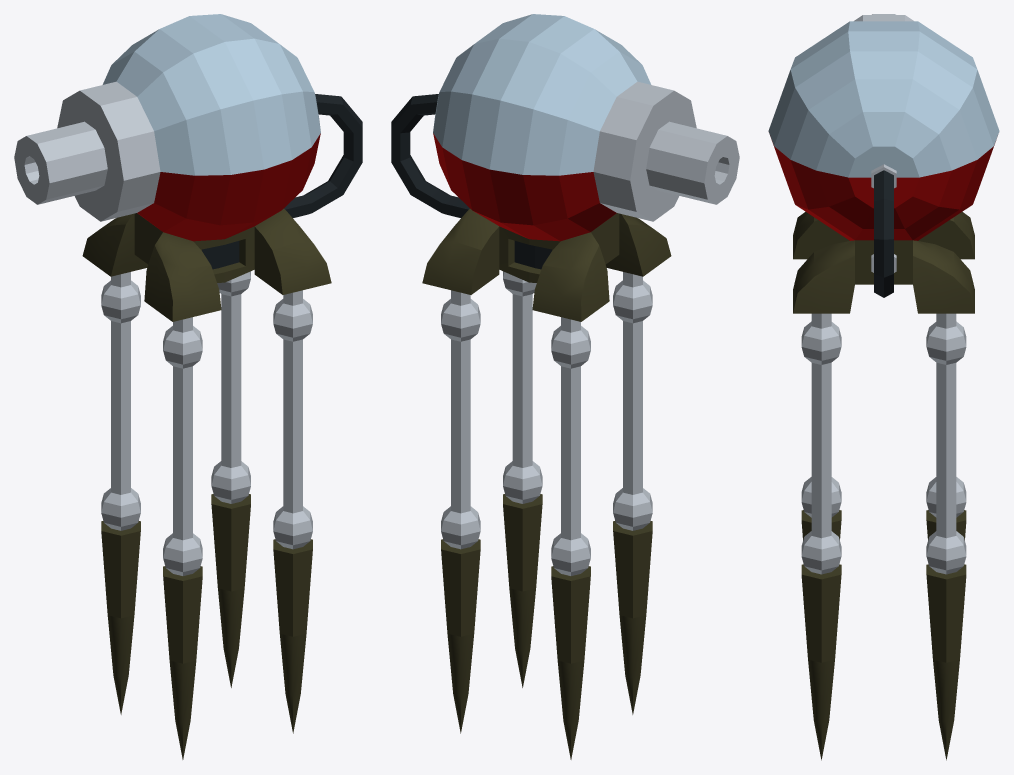
File: Fire_Enemy.fbx
The picture shows the model from 3 angles, left to right: view 1: azimuth 30°, elevation 25°; view 2: azimuth 150°, elevation 25°; view 3: azimuth 270°, elevation 25°; orthographic projection.
Parts seen in each view (by area): view 1: Tank, Base, Gun_Base, Bottom_Leg_4, Bottom_Leg_1, Bottom_Leg_2, Bottom_Leg_3, Gun, Top_Leg_2, Top_Leg_1, Top_Leg_3, Top_Leg_4 (+1 smaller); view 2: Tank, Base, Gun_Base, Bottom_Leg_2, Bottom_Leg_3, Bottom_Leg_4, Bottom_Leg_1, Gun, Top_Leg_4, Top_Leg_3, Top_Leg_1, Top_Leg_2 (+1 smaller); view 3: Tank, Base, Bottom_Leg_2, Bottom_Leg_4, Top_Leg_2, Top_Leg_4, Tubing, Bottom_Leg_1, Bottom_Leg_3.
Part boxes in pixels (bbox=[...]): Tank: bbox=[102, 14, 320, 241]; Base: bbox=[82, 208, 331, 332]; Gun_Base: bbox=[57, 81, 160, 221]; Bottom_Leg_4: bbox=[211, 461, 250, 687]; Bottom_Leg_1: bbox=[163, 533, 202, 759]; Bottom_Leg_2: bbox=[273, 506, 312, 733]; Bottom_Leg_3: bbox=[101, 488, 140, 714]; Gun: bbox=[14, 121, 107, 204]; Top_Leg_2: bbox=[273, 299, 312, 513]; Top_Leg_1: bbox=[163, 326, 202, 540]; Top_Leg_3: bbox=[101, 280, 140, 494]; Top_Leg_4: bbox=[217, 271, 250, 467]; Tank: bbox=[433, 14, 651, 241]; Base: bbox=[422, 208, 671, 332]; Gun_Base: bbox=[593, 81, 696, 221]; Bottom_Leg_2: bbox=[503, 461, 542, 687]; Bottom_Leg_3: bbox=[551, 533, 590, 759]; Bottom_Leg_4: bbox=[441, 506, 480, 733]; Bottom_Leg_1: bbox=[613, 488, 652, 714]; Gun: bbox=[646, 121, 739, 204]; Top_Leg_4: bbox=[441, 299, 480, 513]; Top_Leg_3: bbox=[551, 326, 590, 540]; Top_Leg_1: bbox=[613, 280, 652, 494]; Top_Leg_2: bbox=[503, 271, 536, 467]; Tank: bbox=[768, 21, 999, 240]; Base: bbox=[793, 211, 974, 328]; Bottom_Leg_2: bbox=[801, 531, 841, 760]; Bottom_Leg_4: bbox=[926, 531, 966, 760]; Top_Leg_2: bbox=[801, 321, 841, 538]; Top_Leg_4: bbox=[926, 321, 966, 538]; Tubing: bbox=[871, 164, 896, 297]; Bottom_Leg_1: bbox=[801, 477, 841, 540]; Bottom_Leg_3: bbox=[926, 477, 966, 540].
Bounding box in the file's own units: 0.9807 × 1.97 × 0.5883.
